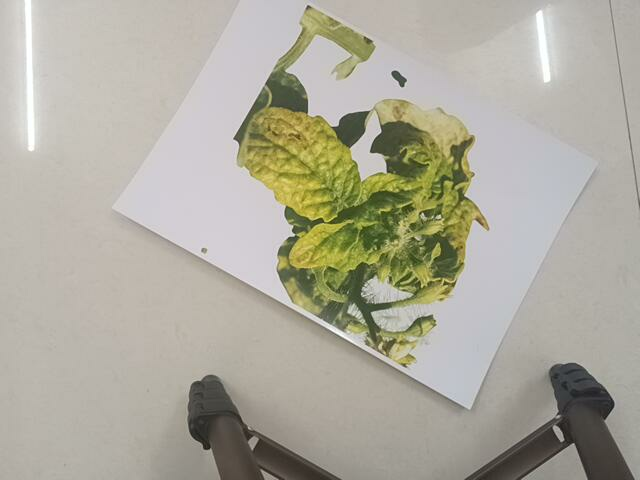Tomamto_Leaf_curl_virus: (237, 8, 479, 375)
